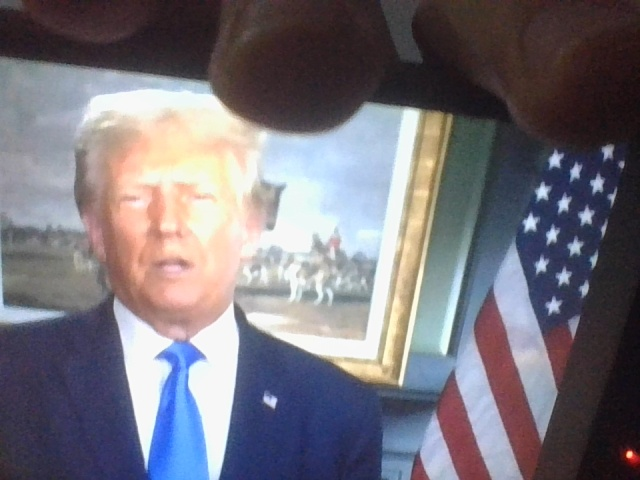fake: (93, 94, 252, 320)
